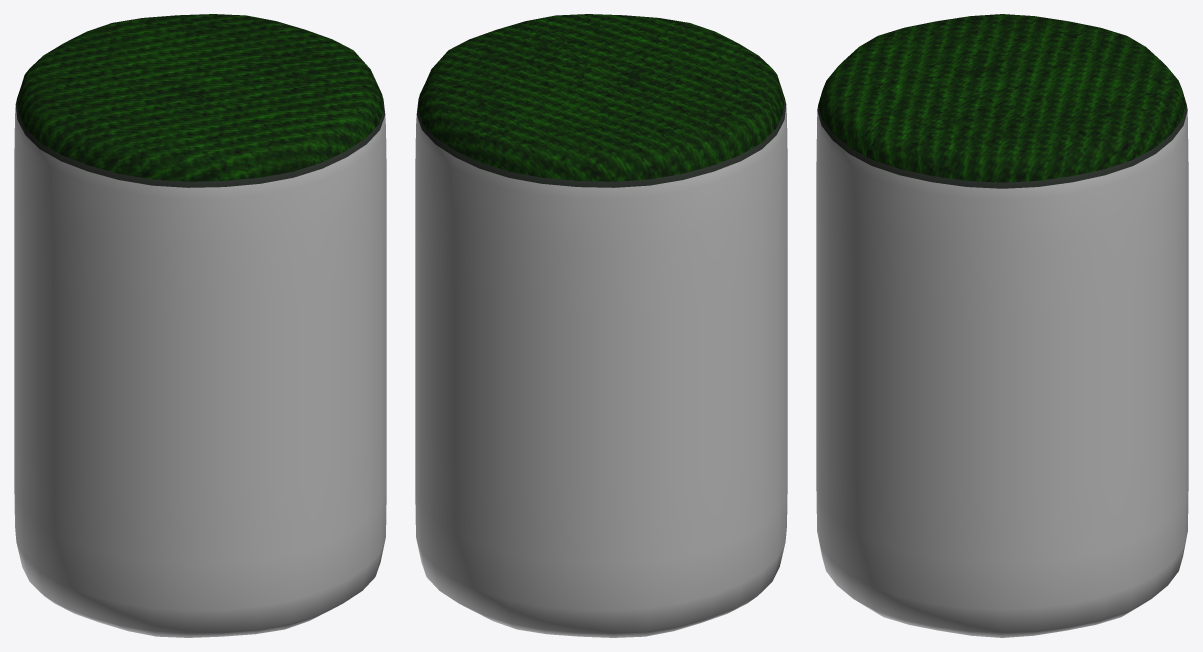
Rendered from Pouffe.fbx.
The picture shows the model from 3 angles, left to right: view 1: azimuth 30°, elevation 25°; view 2: azimuth 150°, elevation 25°; view 3: azimuth 270°, elevation 25°; orthographic projection.
Visible parts, largest first — view 1: Pouffe; view 2: Pouffe; view 3: Pouffe.
Part boxes in pixels (x1,y1,x2,y2): Pouffe: (14,14,386,637); Pouffe: (415,14,787,637); Pouffe: (816,14,1188,637).
Size of the model in its own units: 31.69 by 46.1 by 31.69.
